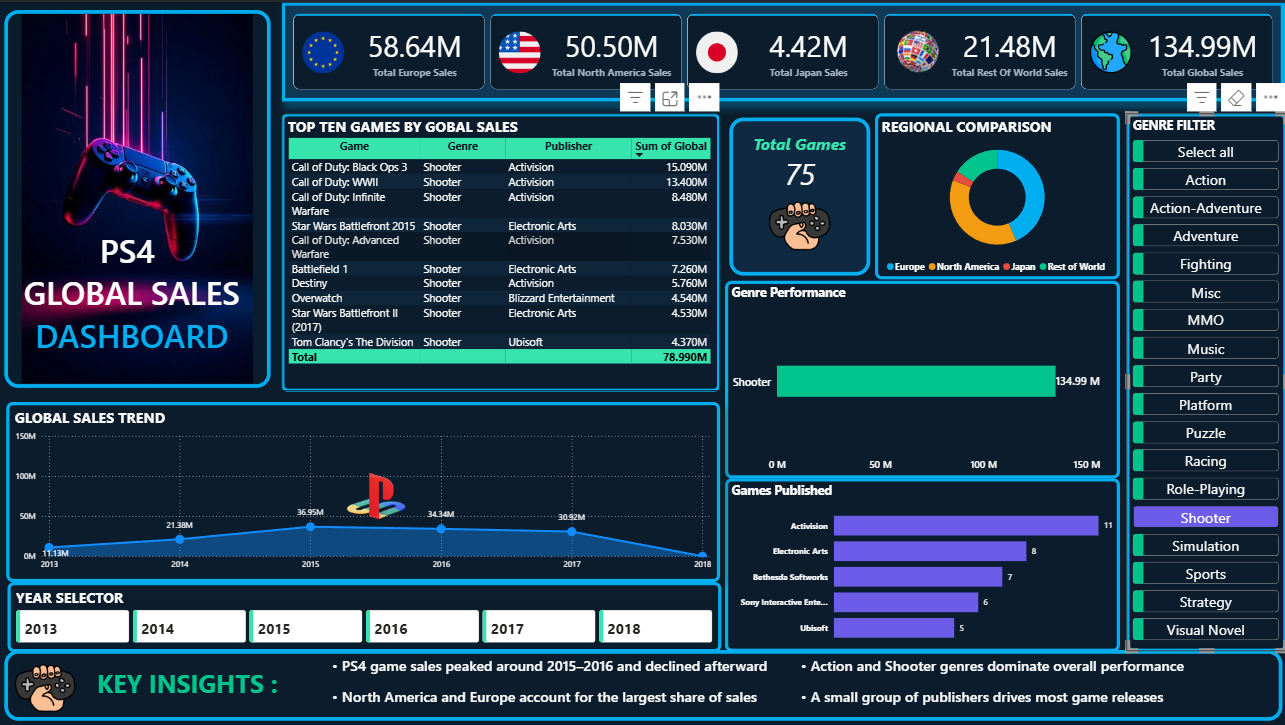

This screenshot's page, from the dashboard's own definition file:
{"tool":"powerbi","page":{"name":"PS4 Global Sales ","canvas":[1920,1080],"ordinal":0},"visuals":[{"type":"cardVisual","fields":{"Data":["PS4_GamesSales.Total Europe Sales","PS4_GamesSales.Total NA Sales","PS4_GamesSales.Total Japan Sales","PS4_GamesSales.Total ROW Sales","PS4_GamesSales.Total Global Sales"]},"box":[419.8,0,1500.2,149.3],"z":0},{"type":"tableEx","title":"TOP TEN GAMES BY GOBAL SALES","fields":{"Values":["PS4_GamesSales.Game","PS4_GamesSales.Genre","PS4_GamesSales.Publisher","Sum(PS4_GamesSales.Global)"]},"box":[419.8,166.1,654.9,416.1],"z":1000},{"type":"clusteredBarChart","title":"Games Published ","fields":{"Y":["CountNonNull(PS4_GamesSales.Global)"],"Category":["PS4_GamesSales.Publisher"]},"box":[1082.2,710.9,589.6,259.4],"z":2000},{"type":"donutChart","title":"REGIONAL COMPARISON","fields":{"Y":["Sum(PS4_GamesSales.Europe)","Sum(PS4_GamesSales.North America)","Sum(PS4_GamesSales.Japan)","Sum(PS4_GamesSales.Rest of World)"]},"box":[1306.2,166.1,365.7,248.2],"z":3000},{"type":"listSlicer","title":"GENRE FILTER","fields":{"Values":["PS4_GamesSales.Genre"]},"box":[1681.2,166.1,238.8,804.2],"z":4000},{"type":"clusteredBarChart","title":"Genre Performance","fields":{"Category":["PS4_GamesSales.Genre"],"Y":["Sum(PS4_GamesSales.Global)"]},"box":[1082.2,416.1,589.6,294.8],"z":5000},{"type":"cardVisual","fields":{"Data":["PS4_GamesSales.Total Games"]},"box":[1082.2,166.1,223.9,248.2],"z":6000},{"type":"lineChart","title":"GLOBAL SALES TREND","fields":{"Category":["PS4_GamesSales.Year"],"Y":["Sum(PS4_GamesSales.Global)"]},"box":[9.3,597.1,1065.5,268.7],"z":7000},{"type":"advancedSlicerVisual","title":"YEAR SELECTOR","fields":{"Values":["PS4_GamesSales.Year"]},"box":[11.2,865.8,1065.5,104.5],"z":8000},{"type":"textbox","box":[490.7,970.3,700,90],"z":9000,"group":"g2"},{"type":"textbox","box":[1190.5,970.3,700,90],"z":10000,"group":"g2"},{"type":"textbox","box":[139,987.4,280.1,74.6],"z":11000,"group":"g2"},{"type":"group","id":"g1","title":"PS 4 GOBAL SALES","box":[0,5.6,410.5,576.6],"z":12000},{"type":"cardVisual","fields":{"Data":["PS4_GamesSales.Key Insight"]},"box":[11.2,969.3,408.6,110.1],"z":13000,"group":"g2"},{"type":"cardVisual","fields":{"Data":["PS4_GamesSales.Key Insight"]},"box":[0,960.7,1920.4,118.9],"z":14000,"group":"g2"},{"type":"group","id":"g2","title":"KEY INSIGHTS","box":[0,960.7,1920.4,118.9],"z":14001},{"type":"cardVisual","fields":{"Data":["PS4_GamesSales.Key Insight"]},"box":[0,5.6,410.5,576.6],"z":14500,"group":"g1"},{"type":"textbox","box":[9.3,332.1,375.1,207.1],"z":15000,"group":"g1"}]}

Visuals, with their boxes in screenshot pixels (x1, y1, x2, y2), scaled from the page's 1920x1080 canvas onto the 1285x725 screenshot:
cardVisual - PS4_GamesSales.Total Europe Sales x PS4_GamesSales.Total NA Sales: Rect(281, 0, 1284, 100)
"TOP TEN GAMES BY GOBAL SALES" tableEx: Rect(281, 112, 719, 391)
"Games Published " clusteredBarChart: Rect(724, 477, 1119, 651)
"REGIONAL COMPARISON" donutChart: Rect(874, 112, 1119, 278)
"GENRE FILTER" listSlicer: Rect(1125, 112, 1284, 651)
"Genre Performance" clusteredBarChart: Rect(724, 279, 1119, 477)
cardVisual - PS4_GamesSales.Total Games: Rect(724, 112, 874, 278)
"GLOBAL SALES TREND" lineChart: Rect(6, 401, 719, 581)
"YEAR SELECTOR" advancedSlicerVisual: Rect(7, 581, 721, 651)
textbox: Rect(328, 651, 797, 712)
textbox: Rect(797, 651, 1265, 712)
textbox: Rect(93, 663, 280, 713)
"PS 4 GOBAL SALES" group: Rect(0, 4, 275, 391)
cardVisual - PS4_GamesSales.Key Insight: Rect(7, 651, 281, 724)
cardVisual - PS4_GamesSales.Key Insight: Rect(0, 645, 1284, 724)
"KEY INSIGHTS" group: Rect(0, 645, 1284, 724)
cardVisual - PS4_GamesSales.Key Insight: Rect(0, 4, 275, 391)
textbox: Rect(6, 223, 257, 362)
